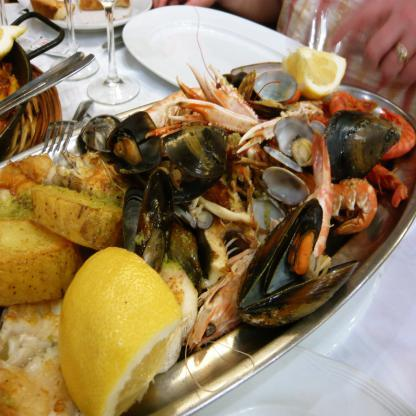lemon: (57, 245, 182, 416), (287, 47, 347, 100)
